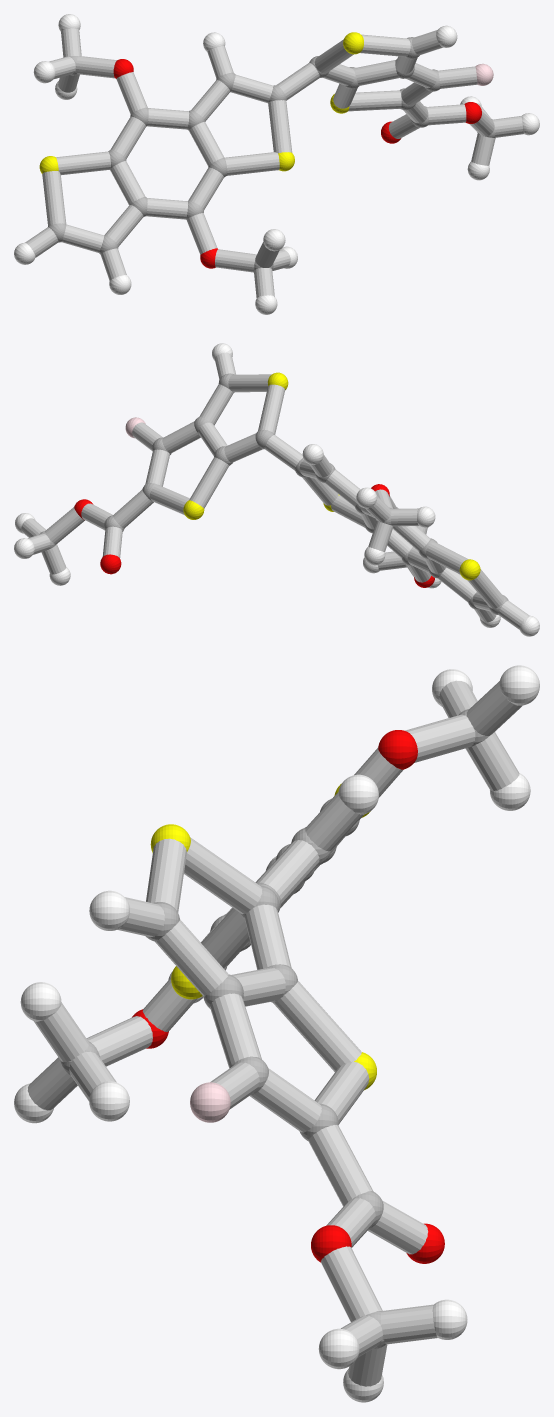
File: Dimethoxy_Benzodithiophene_Phi_30_Theta_80_Methylcarbonyl_3_Fluoro_Thienothiophene.glb
3 renders of one model, top to bottom at view 1: azimuth 30°, elevation 25°; view 2: azimuth 150°, elevation 25°; view 3: azimuth 270°, elevation 25°, orthographic. The views are drawn at different scales.
Parts seen in each view (by area): view 1: grp15205, grp8689, grp1, grp13395, grp7241; view 2: grp15205, grp8689, grp1, grp7241, grp13395; view 3: grp15205, grp8689, grp1, grp13395, grp7241, grp14843.
Boxes of the visible parts, box(x1,y1,x2,y2) form: grp15205: box(25, 28, 523, 297); grp8689: box(14, 14, 539, 314); grp1: box(48, 37, 495, 269); grp13395: box(113, 59, 481, 268); grp7241: box(39, 32, 363, 173); grp15205: box(21, 352, 529, 629); grp8689: box(14, 343, 539, 636); grp1: box(39, 373, 508, 614); grp7241: box(183, 372, 480, 580); grp13395: box(74, 484, 434, 587); grp15205: box(27, 680, 522, 1386); grp8689: box(14, 665, 539, 1402); grp1: box(60, 709, 489, 1348); grp13395: box(132, 730, 444, 1263); grp7241: box(150, 783, 376, 1090); grp14843: box(190, 1082, 230, 1122).
Size of the model in its own units: 16.68 by 6.77 by 7.73.
